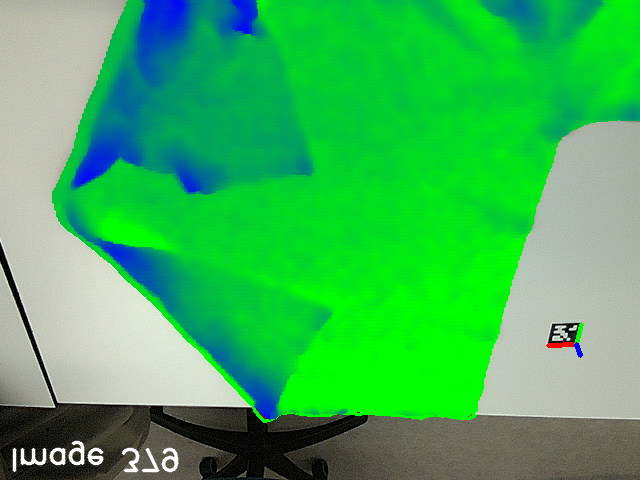V: (288, 286, 353, 336), (270, 140, 331, 191)
